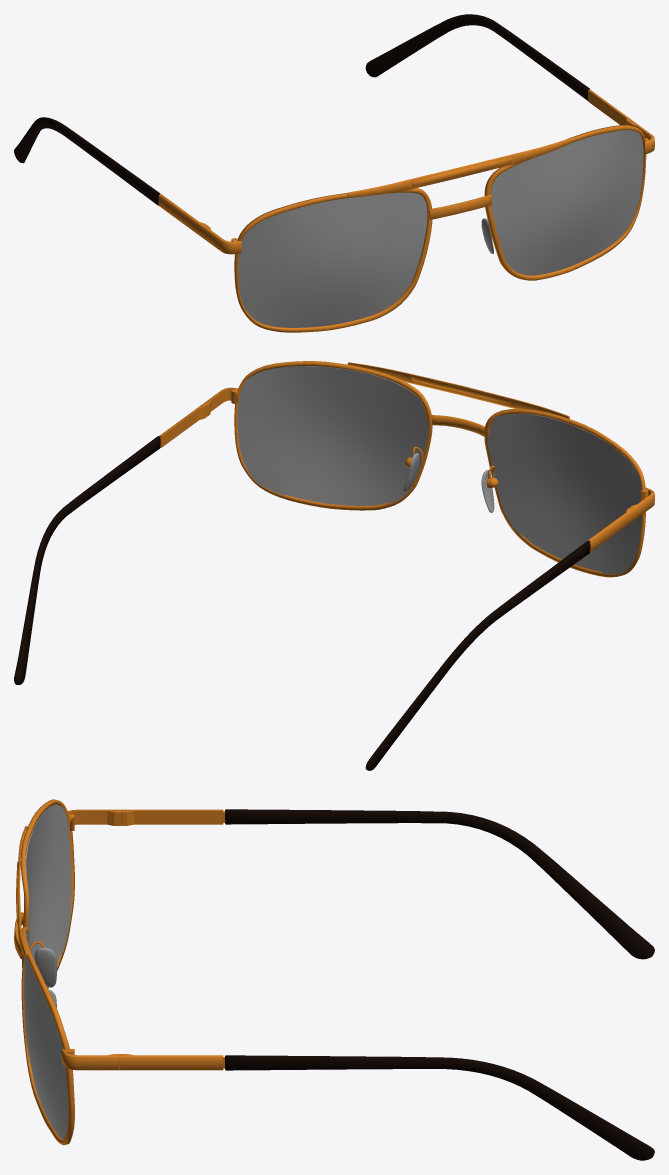
File: 1002_oro.FBX
3 views of the same model, one above another, from view 1: azimuth 30°, elevation 25°; view 2: azimuth 150°, elevation 25°; view 3: azimuth 270°, elevation 25° (orthographic). The views are drawn at different scales.
Parts seen in each view (by area): view 1: Lentes, Marco, Pata_izq, Pata_der; view 2: Lentes, Marco, Pata_der, Pata_izq; view 3: Lentes, Pata_der, Pata_izq, Marco.
Boxes of the visible parts, bbox=[...] form: Lentes: bbox=[238, 130, 643, 327]; Marco: bbox=[203, 121, 654, 332]; Pata_izq: bbox=[365, 14, 633, 125]; Pata_der: bbox=[14, 117, 206, 237]; Lentes: bbox=[237, 366, 641, 573]; Marco: bbox=[203, 361, 654, 577]; Pata_der: bbox=[365, 508, 634, 770]; Pata_izq: bbox=[14, 403, 206, 684]; Lentes: bbox=[24, 804, 71, 1139]; Pata_der: bbox=[120, 809, 654, 959]; Pata_izq: bbox=[119, 1054, 654, 1160]; Marco: bbox=[14, 799, 122, 1145].
Size of the model in its own units: 30.53 by 9.86 by 33.34.
